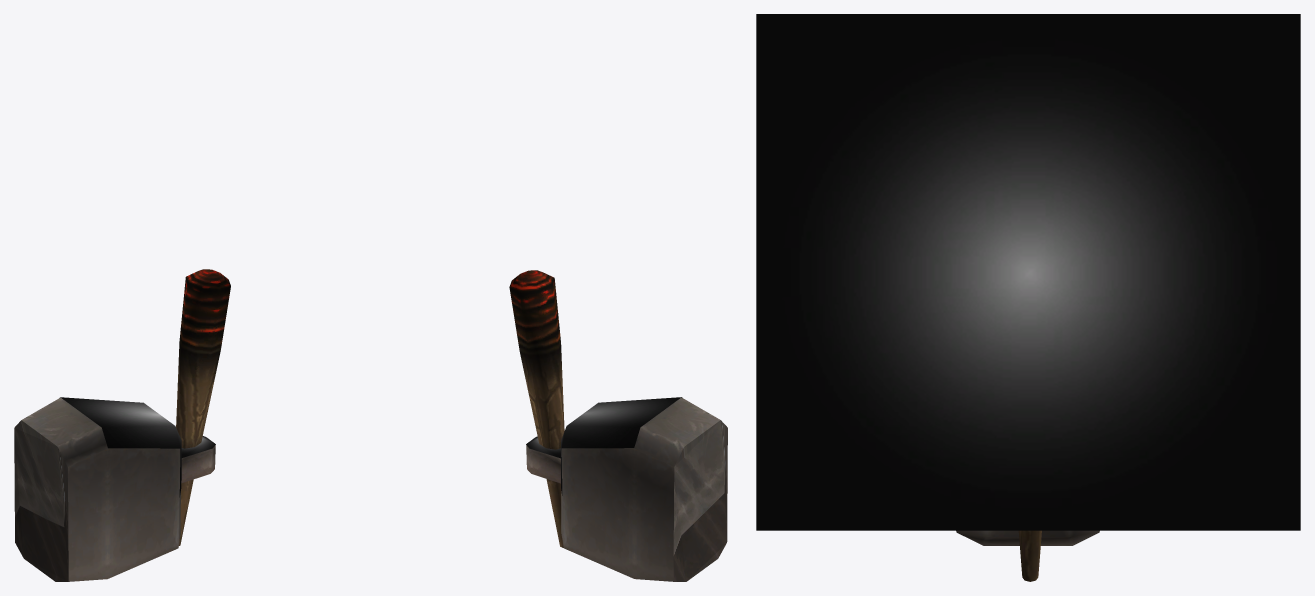
The model's file is torch.obj.
The picture shows the model from 3 angles, left to right: view 1: azimuth 30°, elevation 25°; view 2: azimuth 150°, elevation 25°; view 3: azimuth 270°, elevation 25°; orthographic projection. The views are drawn at different scales.
Parts seen in each view (by area): view 1: torch0, torch1; view 2: torch0, torch1; view 3: torch1, torch0.
Boxes of the visible parts, <box> form: torch0: <box>14,269,230,581</box>; torch1: <box>60,397,215,497</box>; torch0: <box>509,270,727,581</box>; torch1: <box>526,397,682,495</box>; torch1: <box>756,14,1300,530</box>; torch0: <box>956,530,1099,581</box>.
Size of the model in its own units: 0.7336 by 1.41 by 1.11.
Materials: 2 (2 with a texture image).
